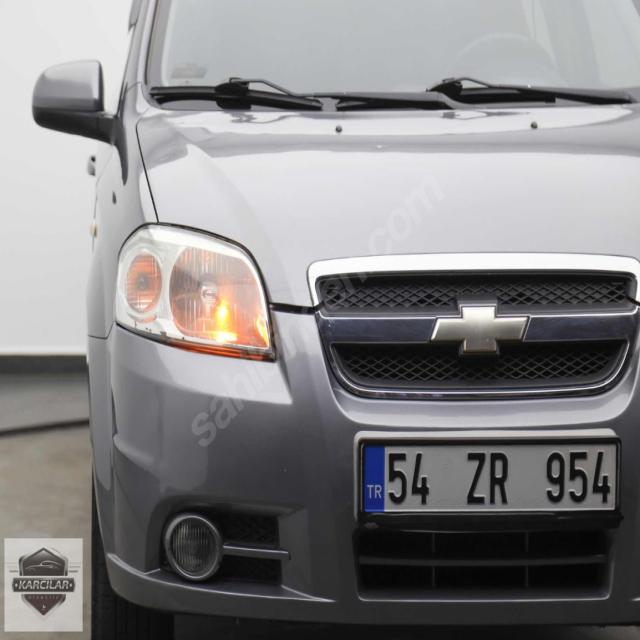chevrolet: (428, 298, 533, 360)
